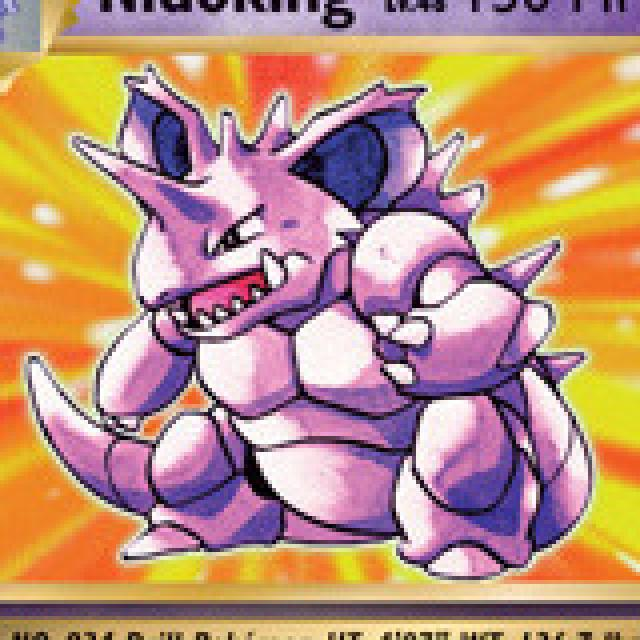Nidoking: (89, 83, 577, 555)
